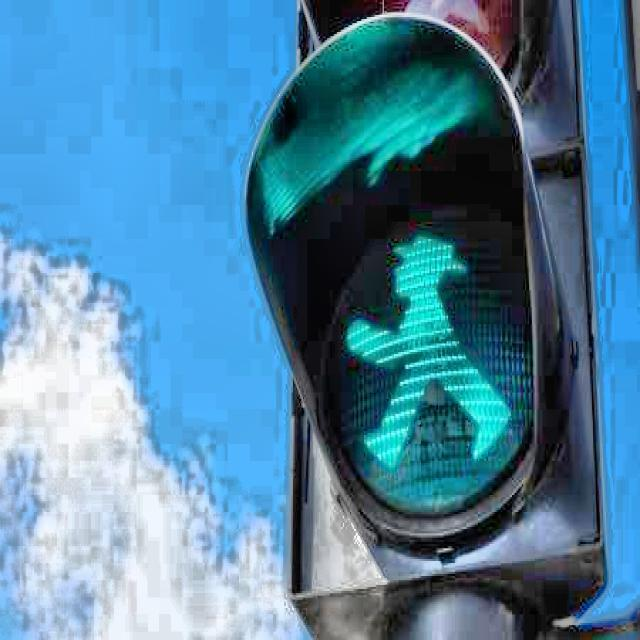green_light: (338, 224, 520, 474)
